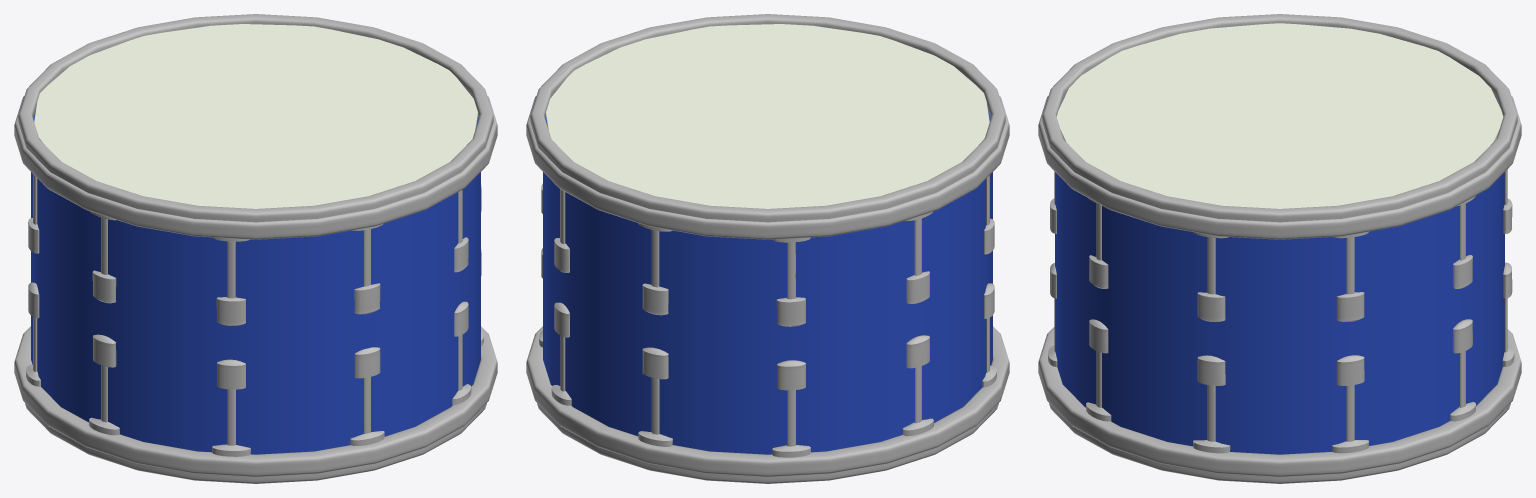
The model's file is Drum1_uvs.fbx.
3 views of the same model, side by side, from view 1: azimuth 30°, elevation 25°; view 2: azimuth 150°, elevation 25°; view 3: azimuth 270°, elevation 25° (orthographic).
Parts seen in each view (by area): view 1: Drum1, fell, Tube, Tube_3, Tube_1, Oil_Tank_4_4, Oil_Tank_5_4, Oil_Tank_3_4, Oil_Tank_6, Oil_Tank_5, Oil_Tank_7, Oil_Tank_6_4 (+3 smaller); view 2: Drum1, fell, Tube, Tube_3, Tube_1, Oil_Tank_1_4, Oil_Tank_0_4, Oil_Tank_9, Oil_Tank_2_4, Oil_Tank_0, Oil_Tank_8, Oil_Tank_9_4 (+3 smaller); view 3: Drum1, fell, Tube, Tube_3, Tube_1, Oil_Tank_8_4, Oil_Tank_7_4, Oil_Tank_2, Oil_Tank_3, Oil_Tank_9_4, Oil_Tank_6_4, Oil_Tank_1 (+2 smaller).
Boxes of the visible parts, <box> form: Drum1: <box>31,111,480,454</box>; fell: <box>34,24,477,208</box>; Tube: <box>14,14,497,239</box>; Tube_3: <box>14,326,497,476</box>; Tube_1: <box>25,403,486,483</box>; Oil_Tank_4_4: <box>212,359,250,456</box>; Oil_Tank_5_4: <box>350,347,384,445</box>; Oil_Tank_3_4: <box>89,334,119,435</box>; Oil_Tank_6: <box>212,237,249,325</box>; Oil_Tank_5: <box>352,223,383,314</box>; Oil_Tank_7: <box>90,211,116,303</box>; Oil_Tank_6_4: <box>452,301,471,405</box>; Drum1: <box>543,111,992,454</box>; fell: <box>546,24,989,208</box>; Tube: <box>526,14,1009,239</box>; Tube_3: <box>526,326,1009,476</box>; Tube_1: <box>537,403,998,483</box>; Oil_Tank_1_4: <box>772,360,810,457</box>; Oil_Tank_0_4: <box>638,347,672,446</box>; Oil_Tank_9: <box>772,237,810,326</box>; Oil_Tank_2_4: <box>902,335,933,436</box>; Oil_Tank_0: <box>638,223,672,315</box>; Oil_Tank_8: <box>905,211,933,303</box>; Oil_Tank_9_4: <box>551,302,571,405</box>; Drum1: <box>1055,97,1504,454</box>; fell: <box>1056,23,1503,208</box>; Tube: <box>1038,14,1521,239</box>; Tube_3: <box>1038,327,1521,476</box>; Tube_1: <box>1049,403,1510,483</box>; Oil_Tank_8_4: <box>1332,355,1368,453</box>; Oil_Tank_7_4: <box>1193,355,1230,453</box>; Oil_Tank_2: <box>1333,231,1368,321</box>; Oil_Tank_3: <box>1193,232,1228,321</box>; Oil_Tank_9_4: <box>1450,319,1475,421</box>; Oil_Tank_6_4: <box>1086,319,1111,421</box>; Oil_Tank_1: <box>1453,196,1475,288</box>.
Size of the model in its own units: 516 by 320 by 516.
